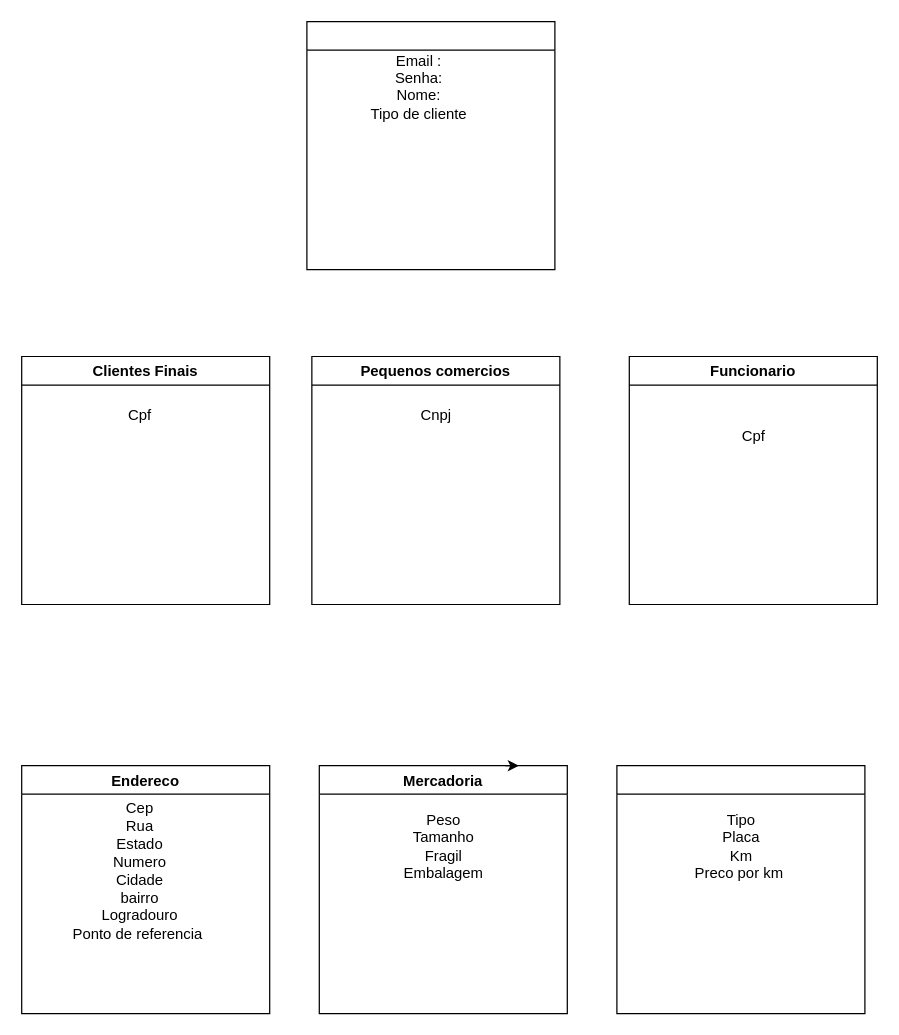
This 899x1035 diagram has some shape labels left out. Each missing label, with the box of its shape:
Transporte: (616, 764, 865, 1014)
Usuarios: (306, 20, 555, 270)
